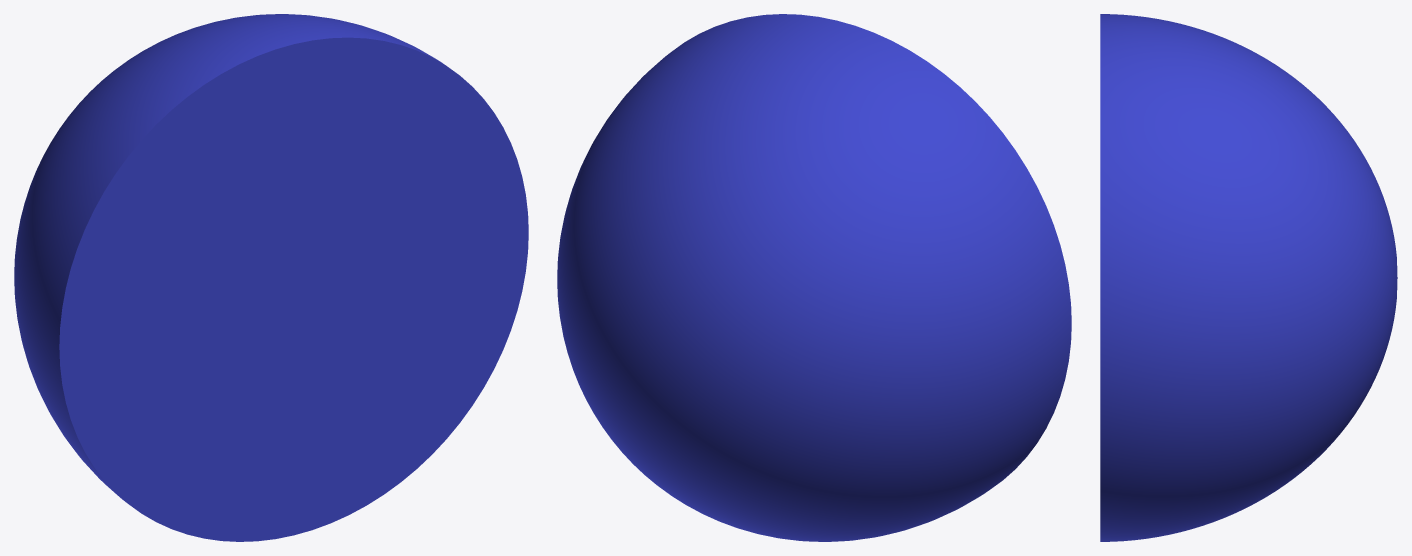
Rendered from arena.fbx.
3 renders of one model, left to right at view 1: azimuth 30°, elevation 25°; view 2: azimuth 150°, elevation 25°; view 3: azimuth 270°, elevation 25°, orthographic. The views are drawn at different scales.
Parts seen in each view (by area): view 1: root; view 2: root; view 3: root.
Part boxes in pixels (x1=…): root: x1=14, y1=14, x2=528, y2=541; root: x1=557, y1=14, x2=1071, y2=541; root: x1=1100, y1=14, x2=1397, y2=541.
Bounding box in the file's own units: 0.2978 × 0.2978 × 0.1675.
